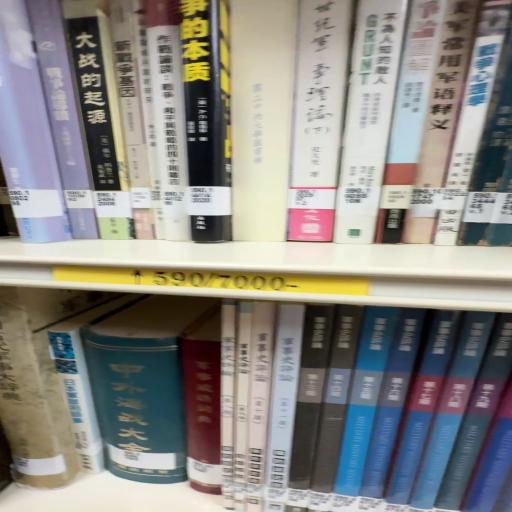backward: (232, 1, 298, 243)
book: (333, 1, 410, 246), (1, 2, 73, 246), (33, 1, 105, 241), (227, 4, 296, 249), (291, 1, 359, 244), (396, 315, 465, 510), (360, 314, 420, 505), (349, 304, 397, 496)
